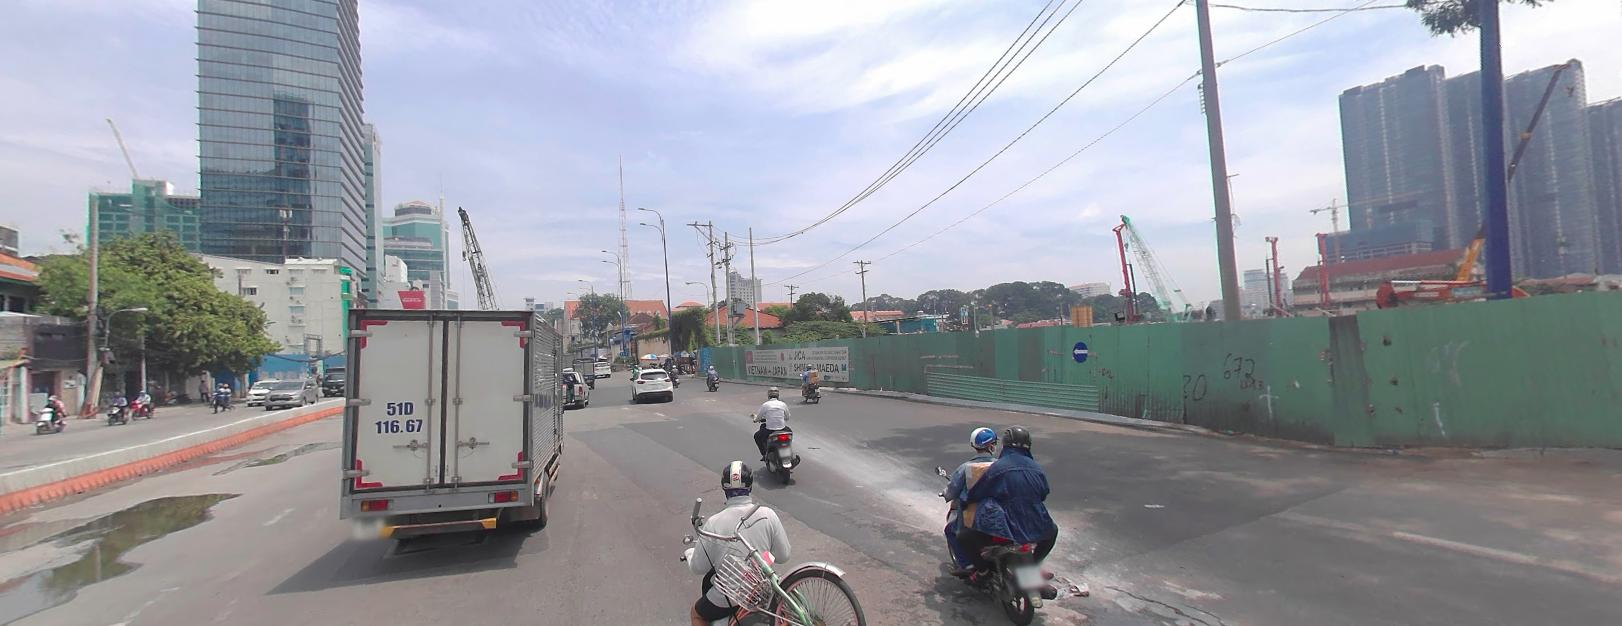Hieu lenh: (1071, 339, 1089, 362)
